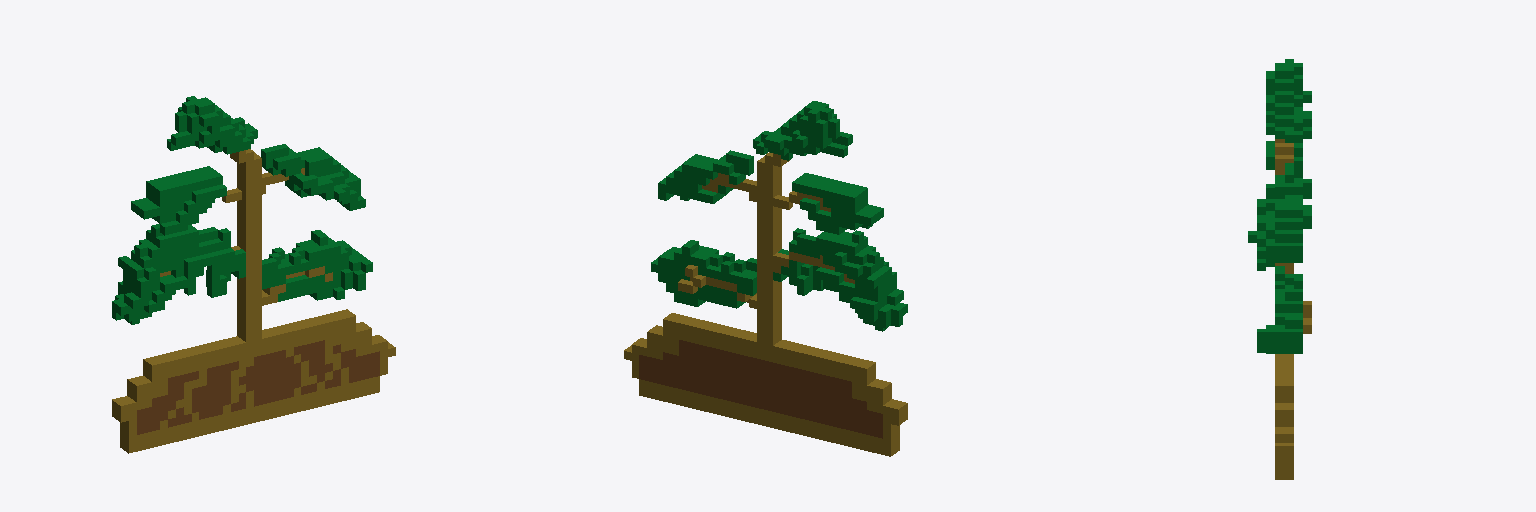
3 views of the same model, side by side, from view 1: azimuth 30°, elevation 25°; view 2: azimuth 150°, elevation 25°; view 3: azimuth 270°, elevation 25° (orthographic).
Parts seen in each view (by area): view 1: Model; view 2: Model; view 3: Model.
Boxes of the visible parts, box(x1,y1,x2,y2) form: Model: box(112, 96, 395, 453); Model: box(624, 101, 907, 456); Model: box(1248, 59, 1311, 479).
Size of the model in its own units: 17.5 by 20 by 3.5.
Materials: 1 (1 with a texture image).